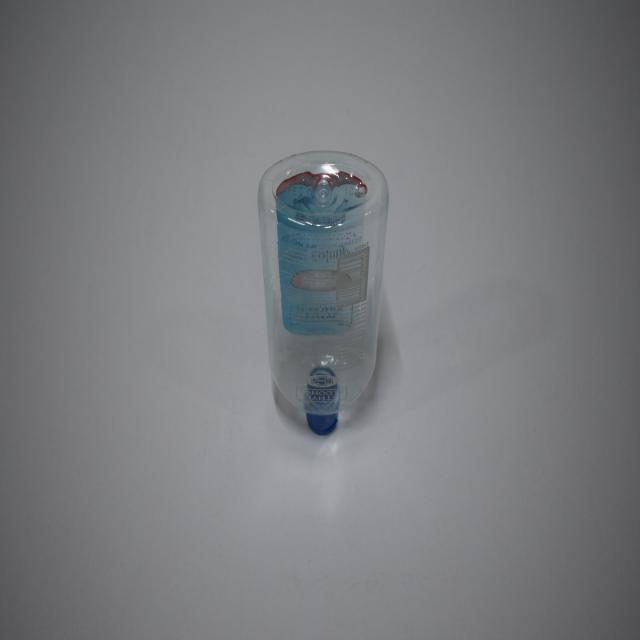bottle: (250, 145, 397, 454)
